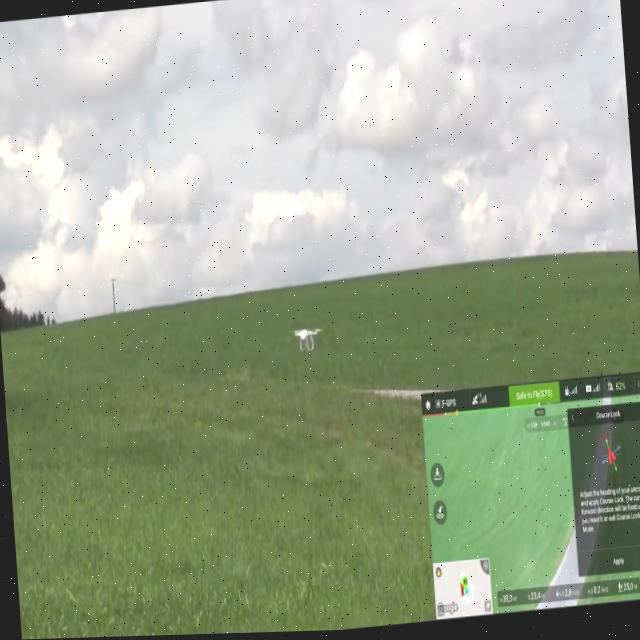drone: (288, 321, 322, 355)
